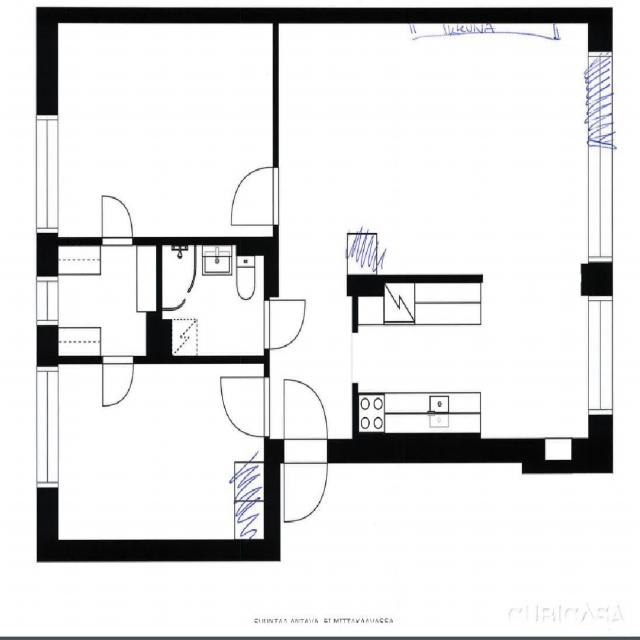door: (284, 438, 327, 520), (284, 380, 327, 461), (222, 377, 270, 436), (231, 167, 278, 225), (264, 300, 305, 349), (103, 355, 133, 406), (102, 196, 132, 245)
